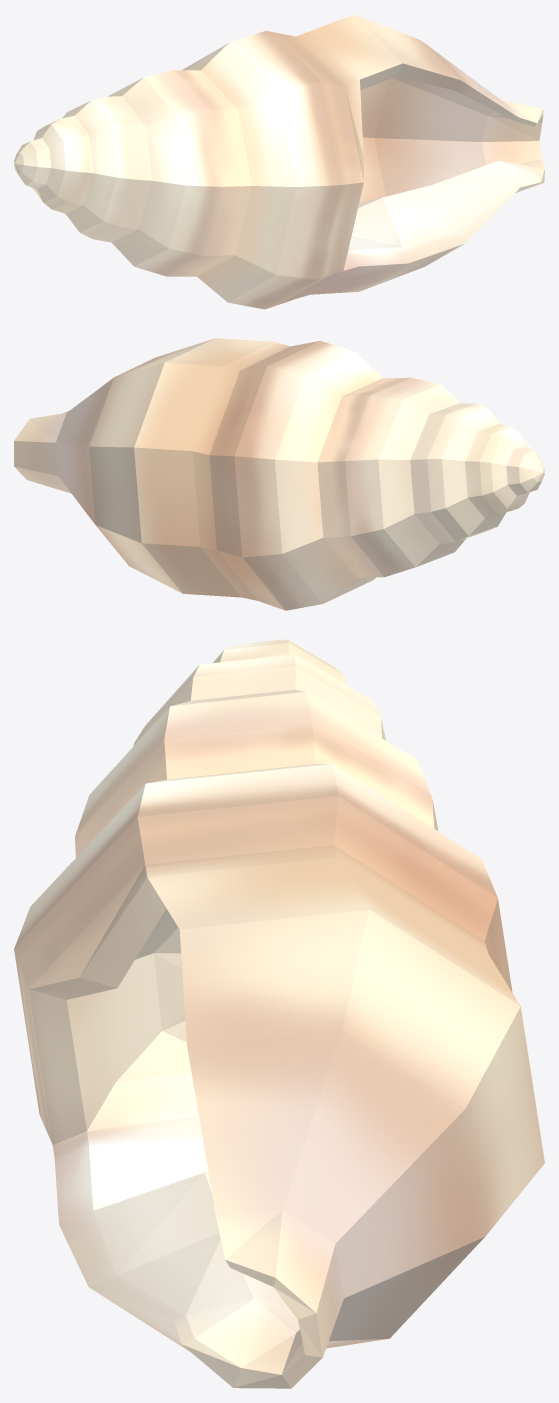
File: shell-spiral-1.glb
3 renders of one model, top to bottom at view 1: azimuth 30°, elevation 25°; view 2: azimuth 150°, elevation 25°; view 3: azimuth 270°, elevation 25°, orthographic. The views are drawn at different scales.
Parts seen in each view (by area): view 1: Node; view 2: Node; view 3: Node.
Part boxes in pixels (x1,y1,x2,y2): Node: (14, 14, 544, 309); Node: (14, 338, 544, 610); Node: (14, 639, 544, 1388).
Bounding box in the file's own units: 4.22 × 1.89 × 1.94.
Materials: 1 (1 with a texture image).
